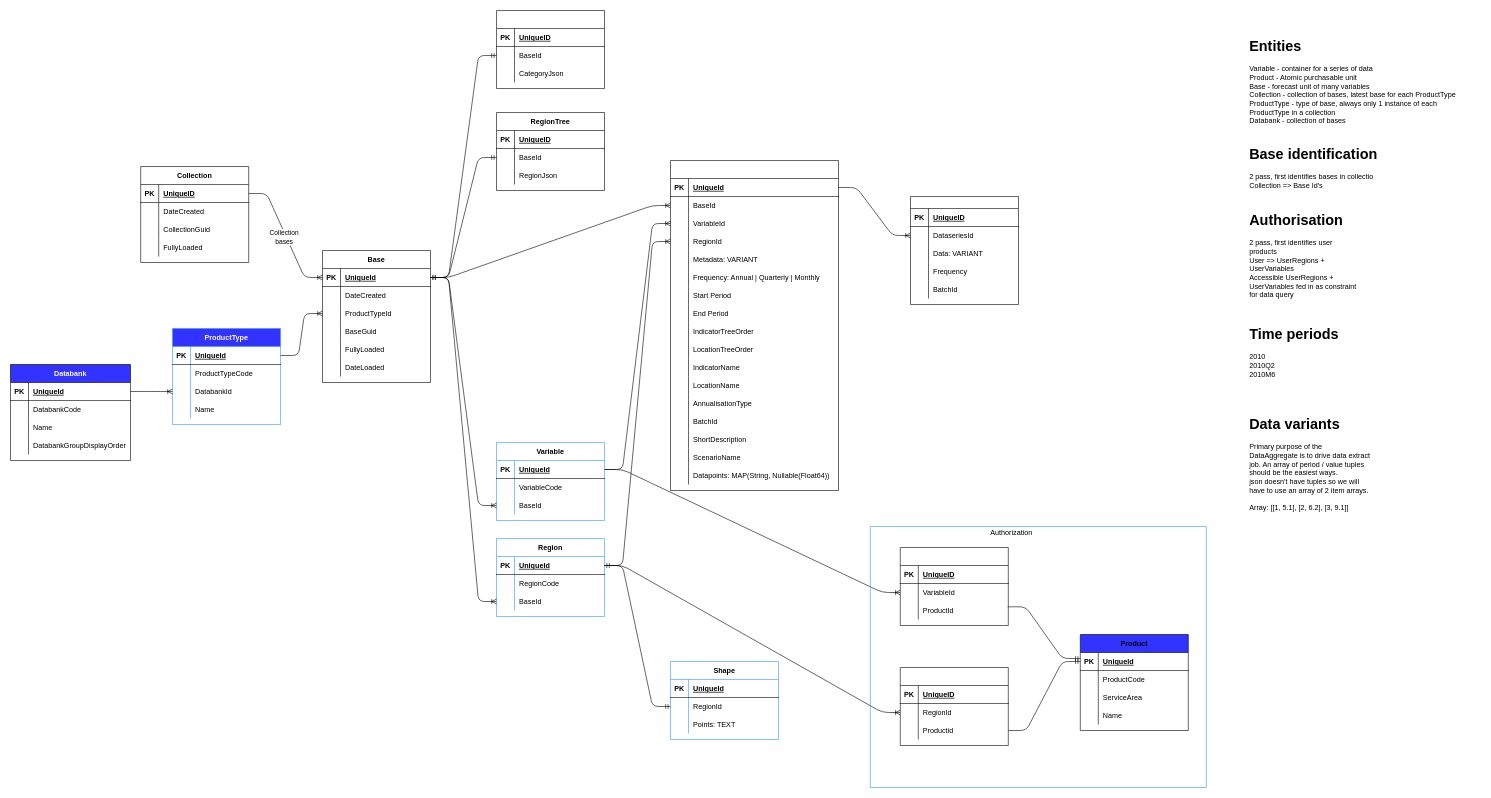
Some shapes in this 1491 by 798 pixel diagram are drawn without their labels. The shapes that lost their labels are listed below. From the top down, each one's box as (x1, y1, x2, y2) in pixels, then its label:
(496, 10, 604, 88): CategoryTree
(910, 196, 1018, 304): DataAggregate
(670, 160, 838, 490): Dataseries
(900, 547, 1008, 626): ProductVariable
(900, 667, 1008, 746): ProductRegion
